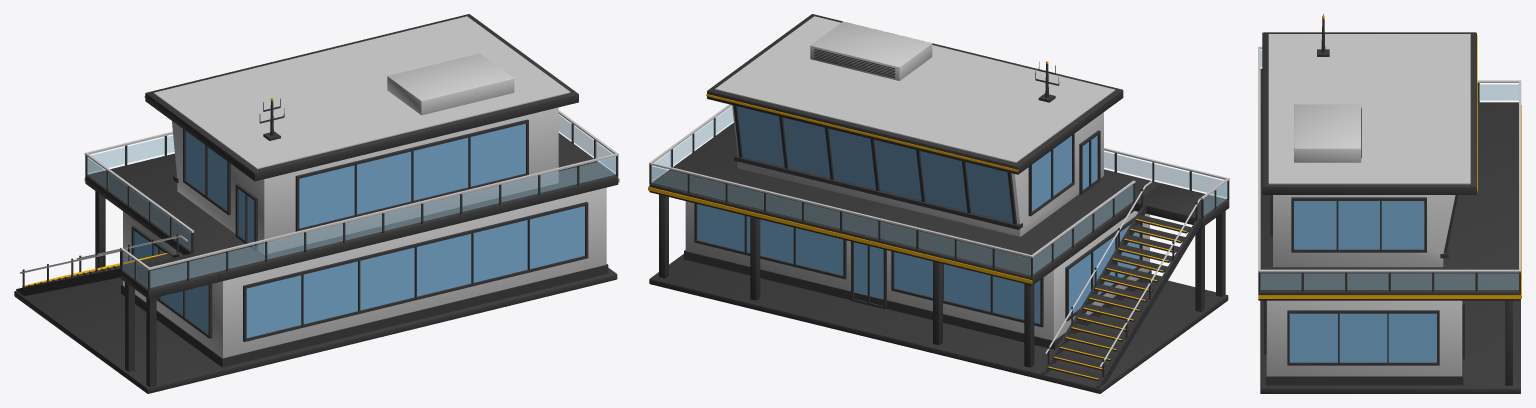
File: stand.obj
3 renders of one model, left to right at view 1: azimuth 30°, elevation 25°; view 2: azimuth 150°, elevation 25°; view 3: azimuth 270°, elevation 25°, orthographic. The views are drawn at different scales.
Visible parts, largest first — view 1: stand; view 2: stand; view 3: stand.
Part boxes in pixels (x1,y1,x2,y2): stand: (14,14,619,393); stand: (648,14,1229,393); stand: (1258,14,1521,393).
Size of the model in its own units: 25.25 by 12 by 12.55.
